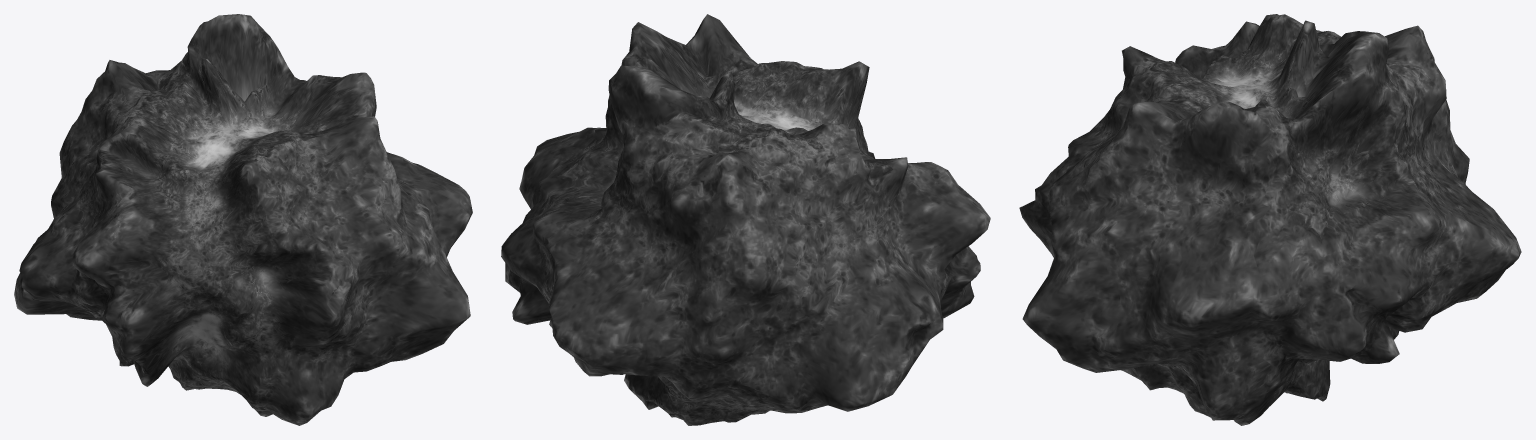
The model's file is Asteroid_01_Low.FBX.
The picture shows the model from 3 angles, left to right: view 1: azimuth 30°, elevation 25°; view 2: azimuth 150°, elevation 25°; view 3: azimuth 270°, elevation 25°; orthographic projection. The views are drawn at different scales.
Visible parts, largest first — view 1: Asteroid_01_Low; view 2: Asteroid_01_Low; view 3: Asteroid_01_Low.
Boxes of the visible parts, x1,y1,x2,y2 form: Asteroid_01_Low: [14, 14, 472, 425]; Asteroid_01_Low: [501, 14, 990, 425]; Asteroid_01_Low: [1019, 14, 1521, 425].
Bounding box in the file's own units: 8.83 × 7.23 × 8.48.
